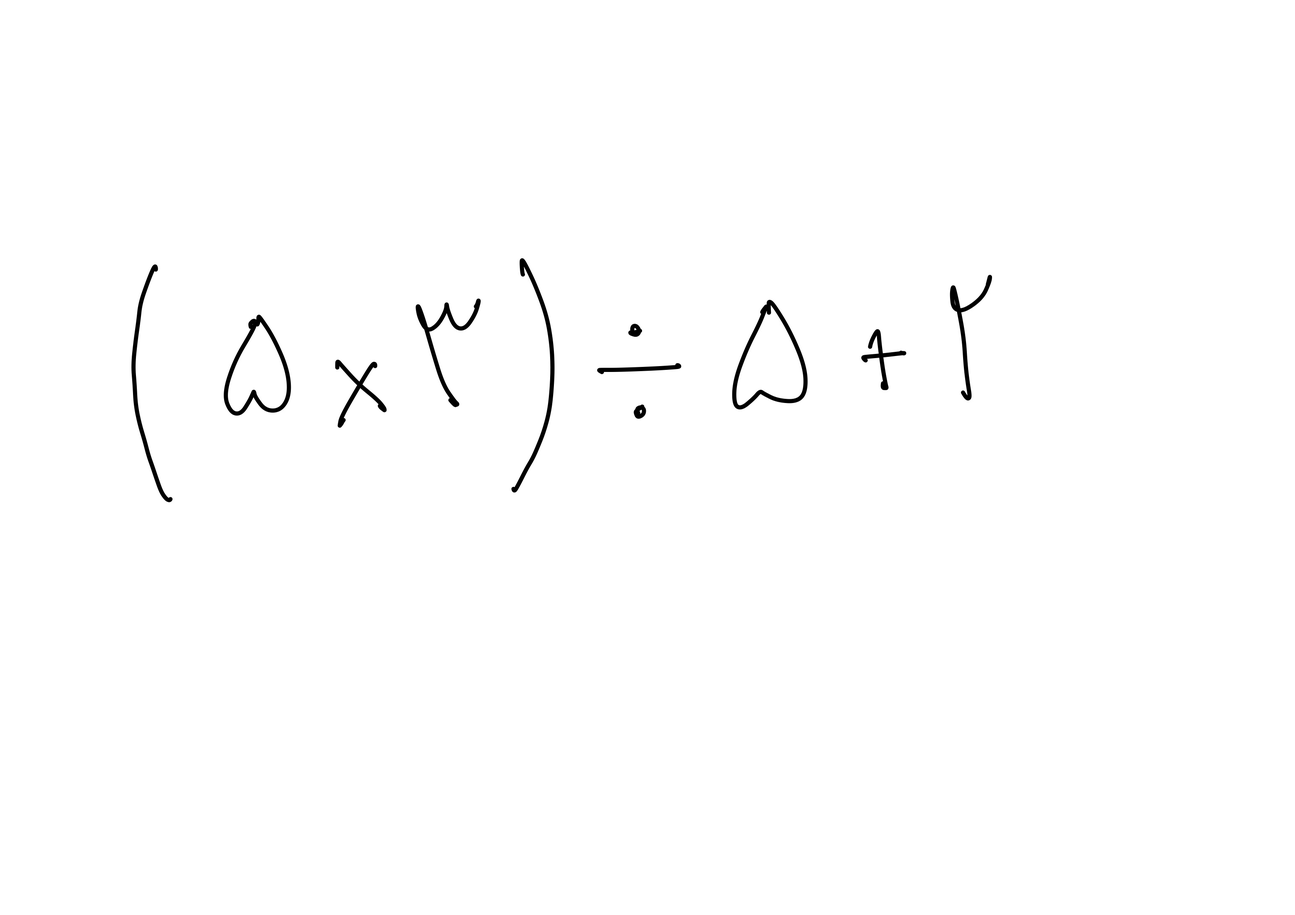character: (509, 259, 557, 494), (130, 265, 174, 510), (596, 321, 682, 421), (732, 301, 808, 411), (221, 313, 293, 417), (417, 297, 481, 409), (948, 273, 993, 403), (333, 357, 389, 429), (860, 325, 908, 393)
